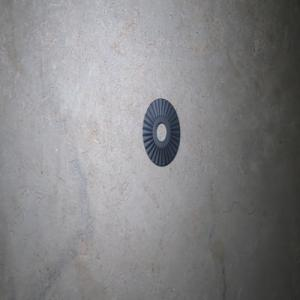Washer: (142, 98, 180, 166)
